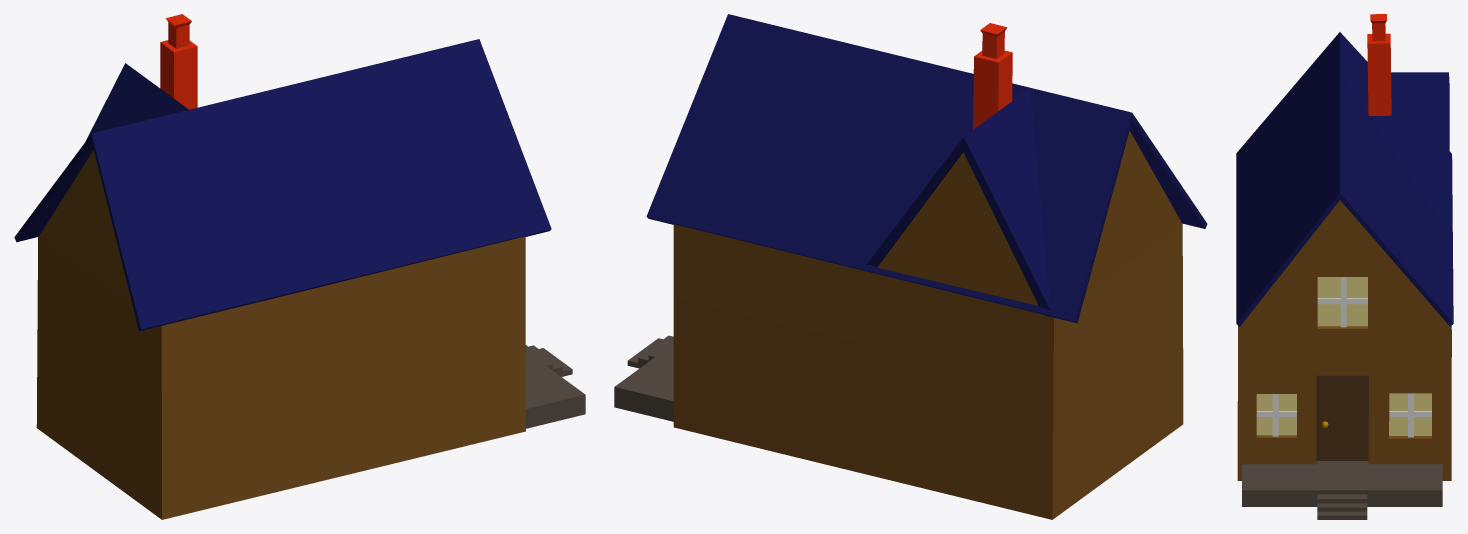
The model's file is HouseNew.fbx.
3 views of the same model, side by side, from view 1: azimuth 30°, elevation 25°; view 2: azimuth 150°, elevation 25°; view 3: azimuth 270°, elevation 25° (orthographic). The views are drawn at different scales.
Parts seen in each view (by area): view 1: House; view 2: House; view 3: House.
Part boxes in pixels (x1=…): House: x1=14, y1=14, x2=585, y2=519; House: x1=614, y1=14, x2=1207, y2=519; House: x1=1236, y1=14, x2=1453, y2=519.
Bounding box in the file's own units: 2088 × 1731 × 963.
